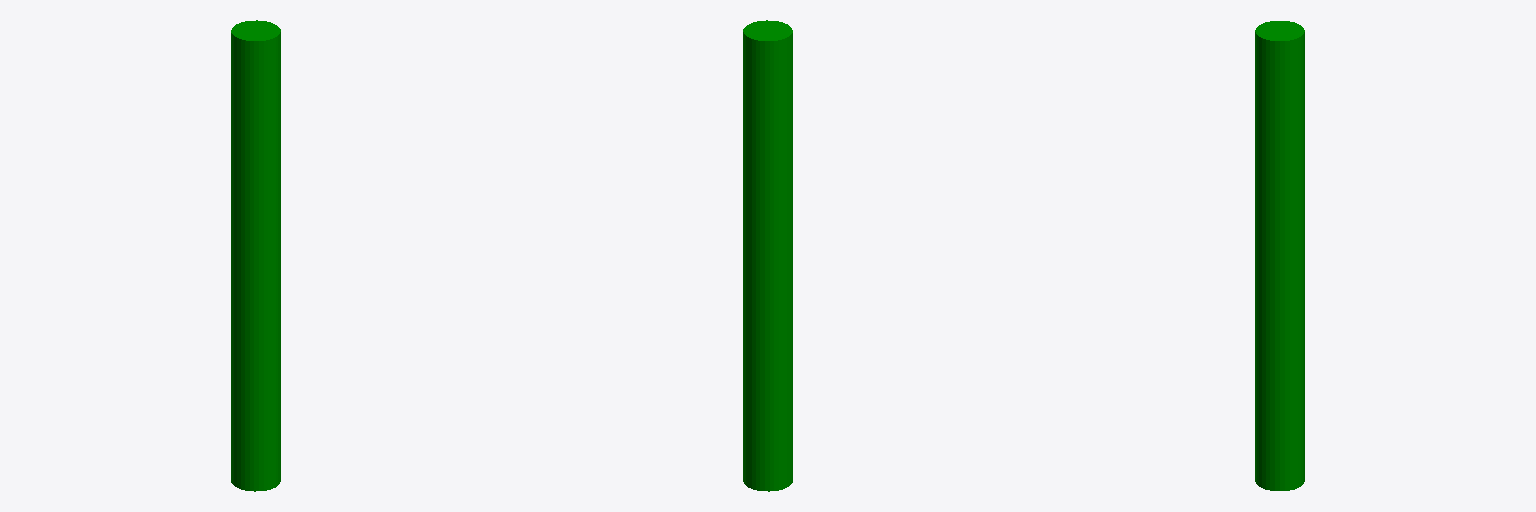
The robot description file, URDF, robot "tree_cylinder":
<?xml version="1.0" ?>
<robot name="tree_cylinder">
    <link name="body">
    <inertial>
      <origin xyz="0 0 0" rpy="0 0 0"/>
      <mass value="0.1"/>
      <inertia ixx="1" ixy="0" ixz="0" iyy="1" iyz="0" izz="1"/>
    </inertial>
    <!-- Visual representation of the cube (0.3m x 0.3m x 0.3m) -->
    <visual>
      <origin xyz="0 0 0" rpy="0 0 0"/>
      <geometry>
        <cylinder radius="0.25" length="5.0"/>
      </geometry>
      <material name="green">
        <color rgba="0 0.6 0 1"/>
      </material>
    </visual>
    <!-- Collision representation of the cube (0.3m x 0.3m x 0.3m) -->
    <collision>
      <origin xyz="0 0 0" rpy="0 0 0"/>
      <geometry>
        <cylinder radius="0.25" length="5.0"/>
      </geometry>
    </collision>    
    <!-- Contact properties (optional, e.g., friction) --> 
    <contact>
      <lateral_friction value="1.0"/>
      <rolling_friction value="0.0"/>
      <restitution value="0.0"/>
    </contact>
  </link>
</robot>  

--- What the picture shows (computed from the rendered views, not written in the file) ---
3 views of the same robot in one strip: view 1: azimuth 30°, elevation 25°; view 2: azimuth 150°, elevation 25°; view 3: azimuth 270°, elevation 25° (orthographic).
Model tree_cylinder with 1 links and 0 joints (none), rooted at body, posed every joint at zero.
Links seen in each view (by area): view 1: body; view 2: body; view 3: body.
Link boxes in pixels (x1,y1,x2,y2): body: [231, 20, 280, 491]; body: [743, 20, 792, 491]; body: [1255, 21, 1304, 490].
Size in the robot's own frame: 0.5 by 0.5 by 5 metres.
Geometry: primitives only (box / cylinder / sphere), no mesh files.
